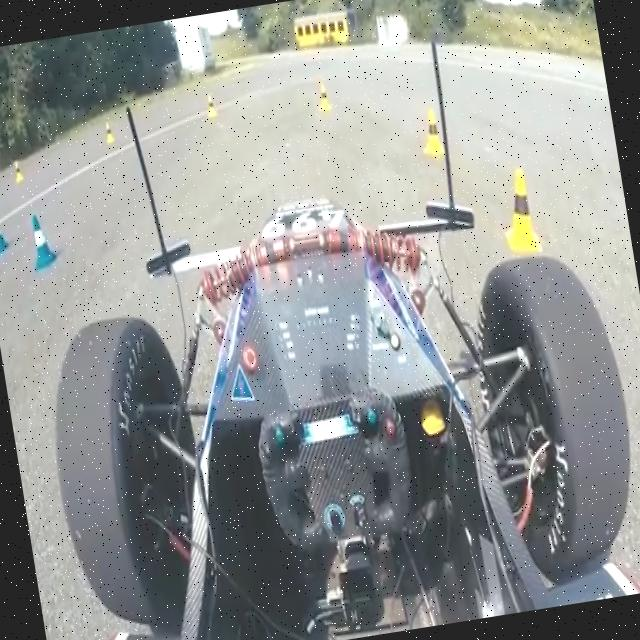blue_cone: (18, 202, 66, 274), (0, 209, 12, 260)
yellow_cone: (490, 164, 548, 266), (414, 104, 448, 164), (316, 77, 336, 116), (102, 118, 120, 150), (202, 90, 220, 116)
